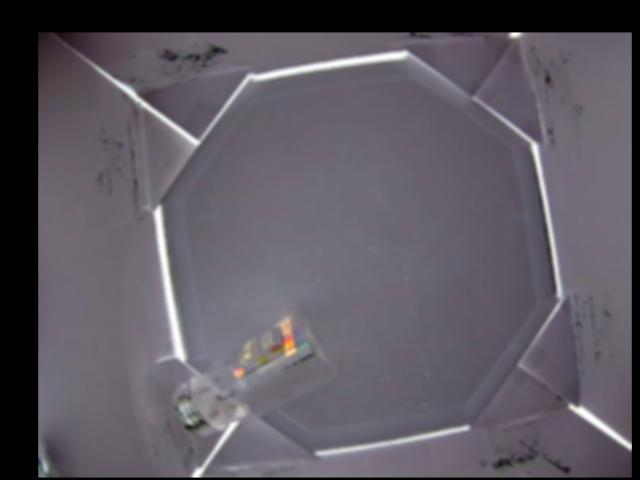Bottle: (171, 311, 336, 439)
